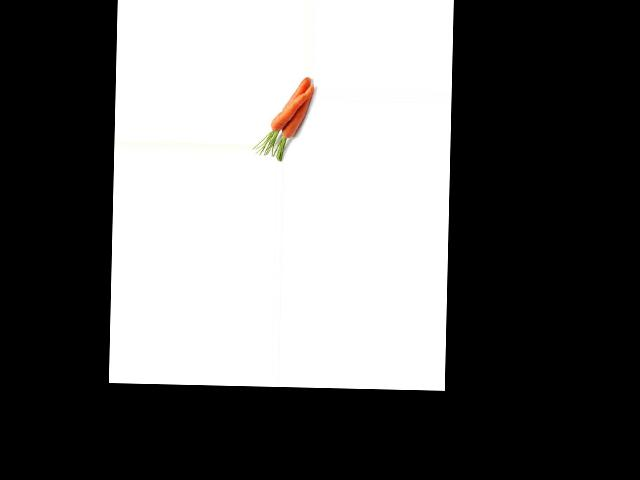carrot: (282, 76, 311, 112)
